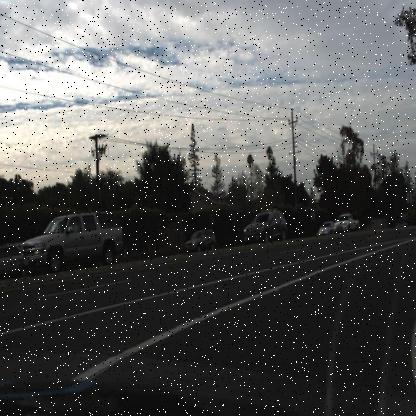car: (19, 211, 125, 271), (243, 209, 288, 246), (1, 240, 30, 282), (183, 227, 217, 255), (334, 209, 360, 237), (316, 217, 333, 239)
